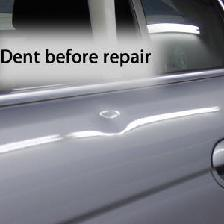dent: (6, 39, 214, 224)
